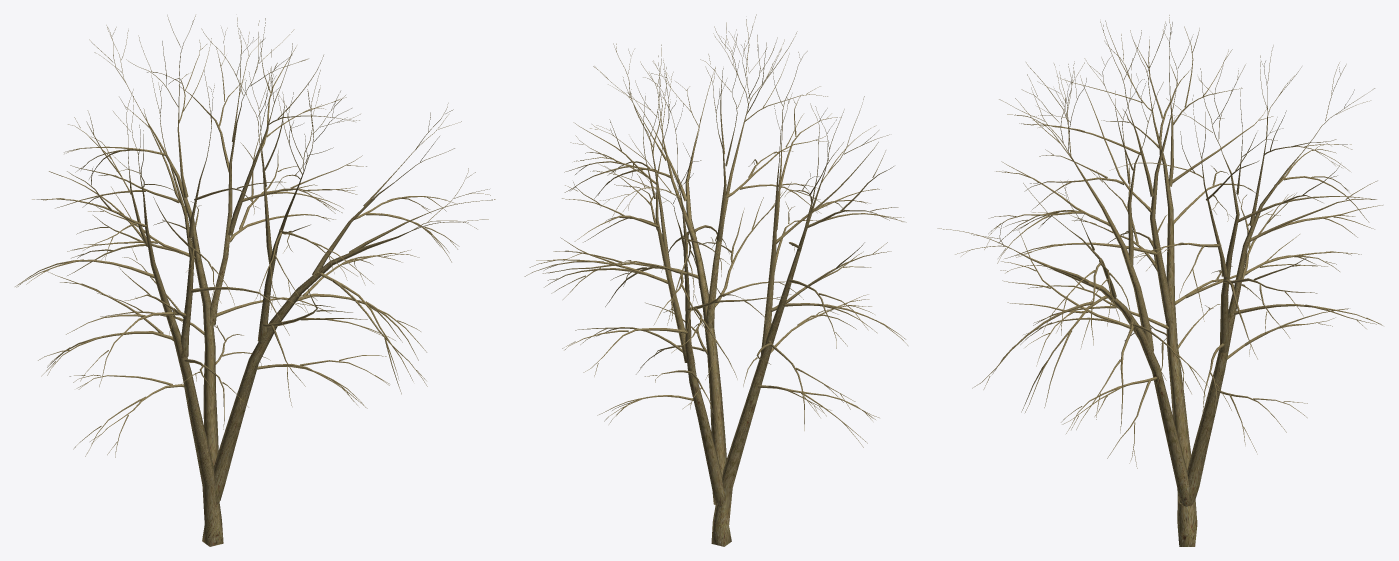
Rendered from terrain_v6_tree.dae.
3 renders of one model, left to right at view 1: azimuth 30°, elevation 25°; view 2: azimuth 150°, elevation 25°; view 3: azimuth 270°, elevation 25°, orthographic. The views are drawn at different scales.
Parts seen in each view (by area): view 1: tree; view 2: tree; view 3: tree.
Part boxes in pixels (x1,y1,x2,y2): tree: [15, 15, 495, 546]; tree: [524, 14, 907, 546]; tree: [937, 15, 1382, 546].
Size of the model in its own units: 7.01 by 7.14 by 8.91.
Materials: 1 (1 with a texture image).
